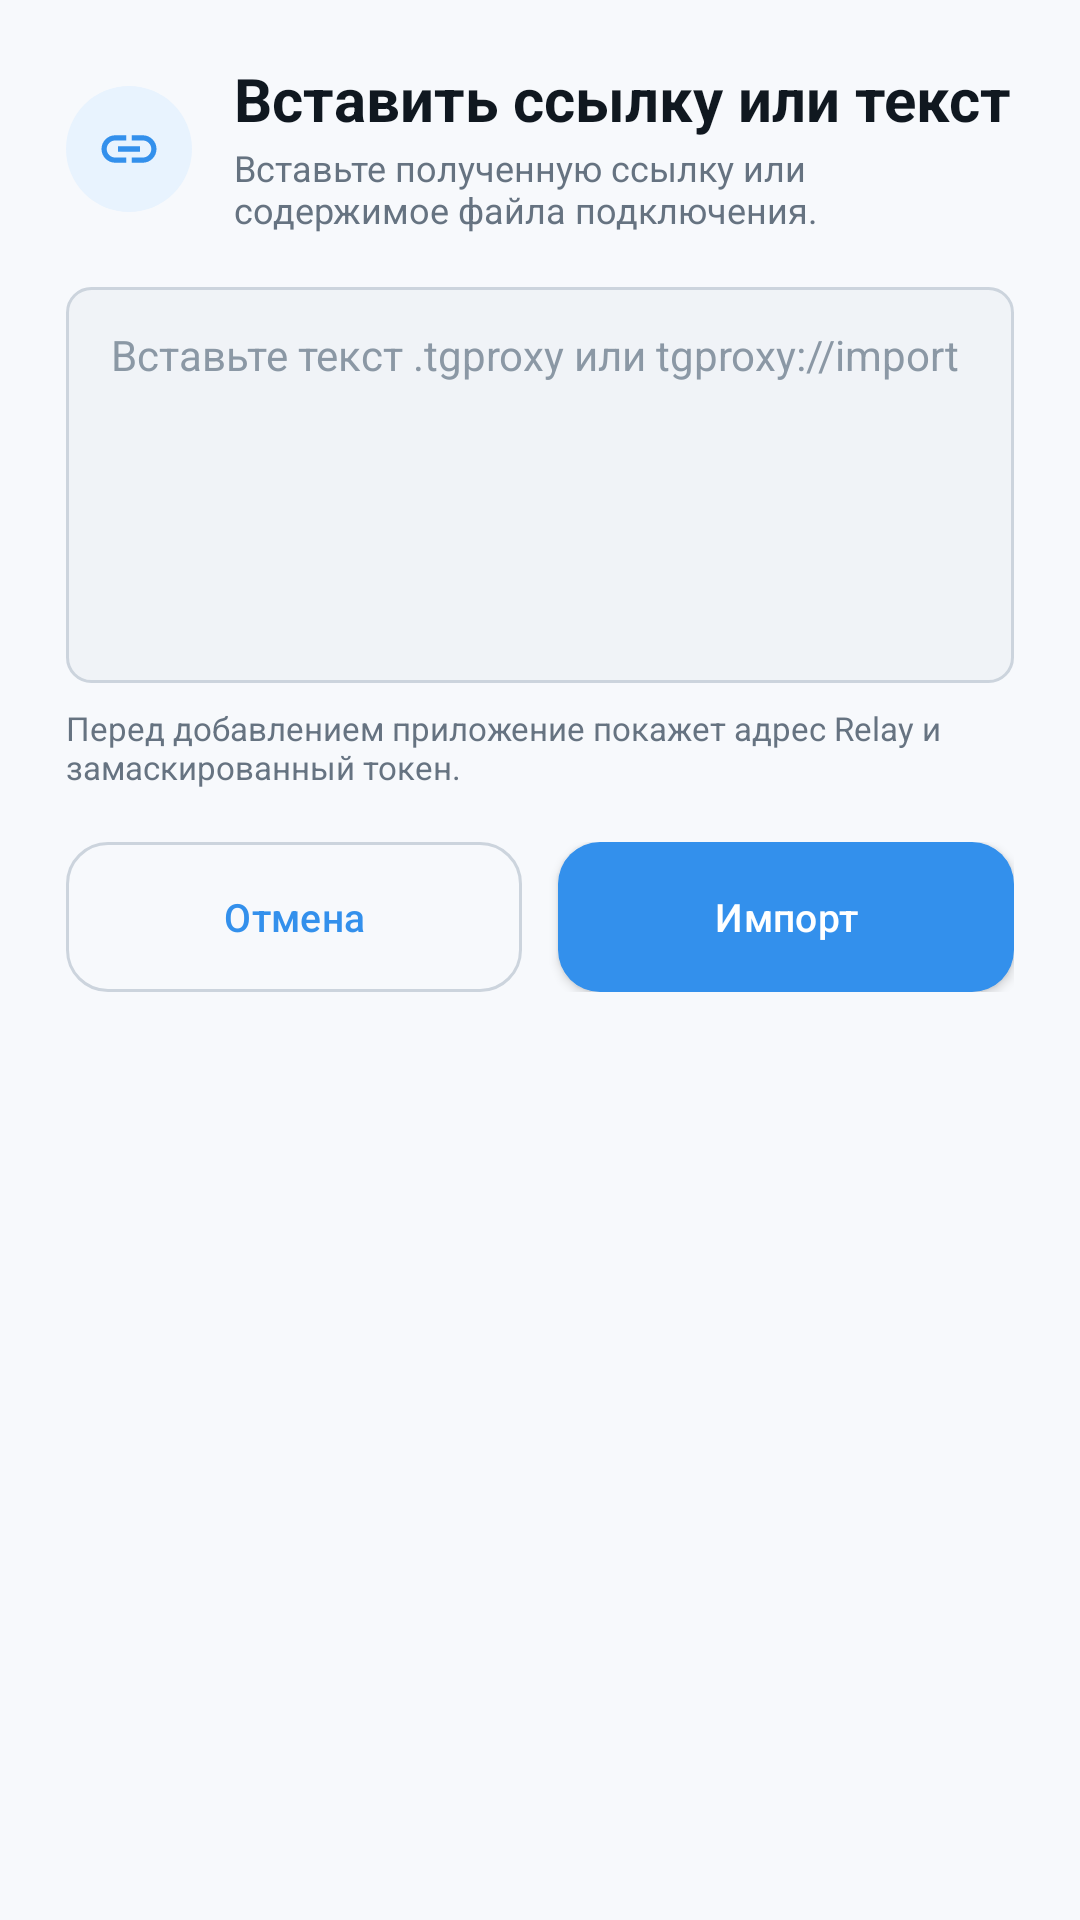

Icon click points for this 1080*1920 phone screenshot, format (x=x, y=y):
link: (x=129, y=149)
